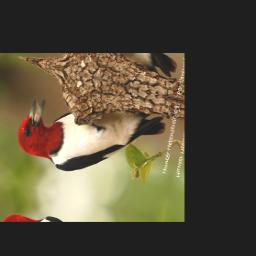Woodpecker: (13, 80, 167, 195)
